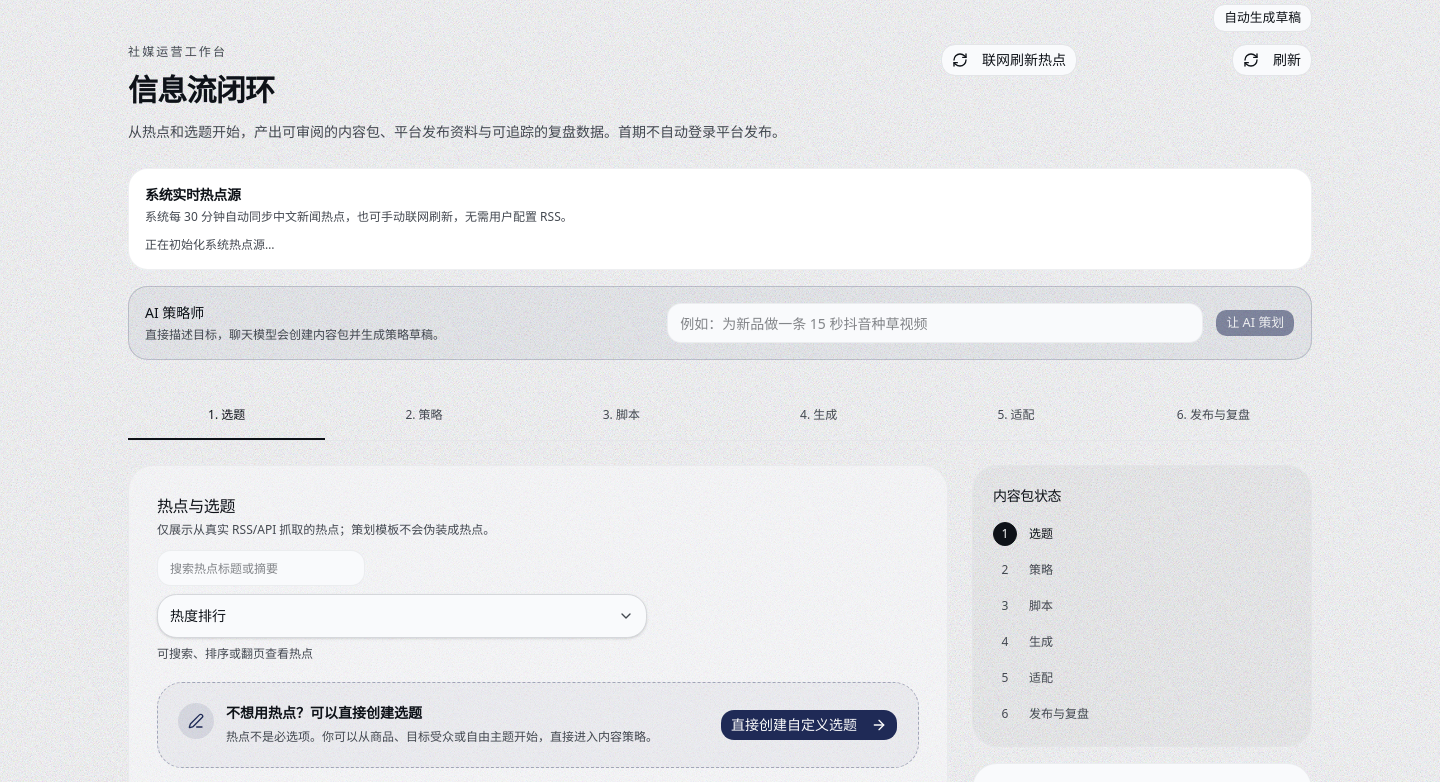
Test case: feed workflow closure › keeps custom topics independent from hotspot ids
The width and height of the screenshot is (1440, 782).
Click the button with test id "feed-custom-topic" at (809, 725), box left=720, top=709, right=898, bottom=741
(page scrolled)
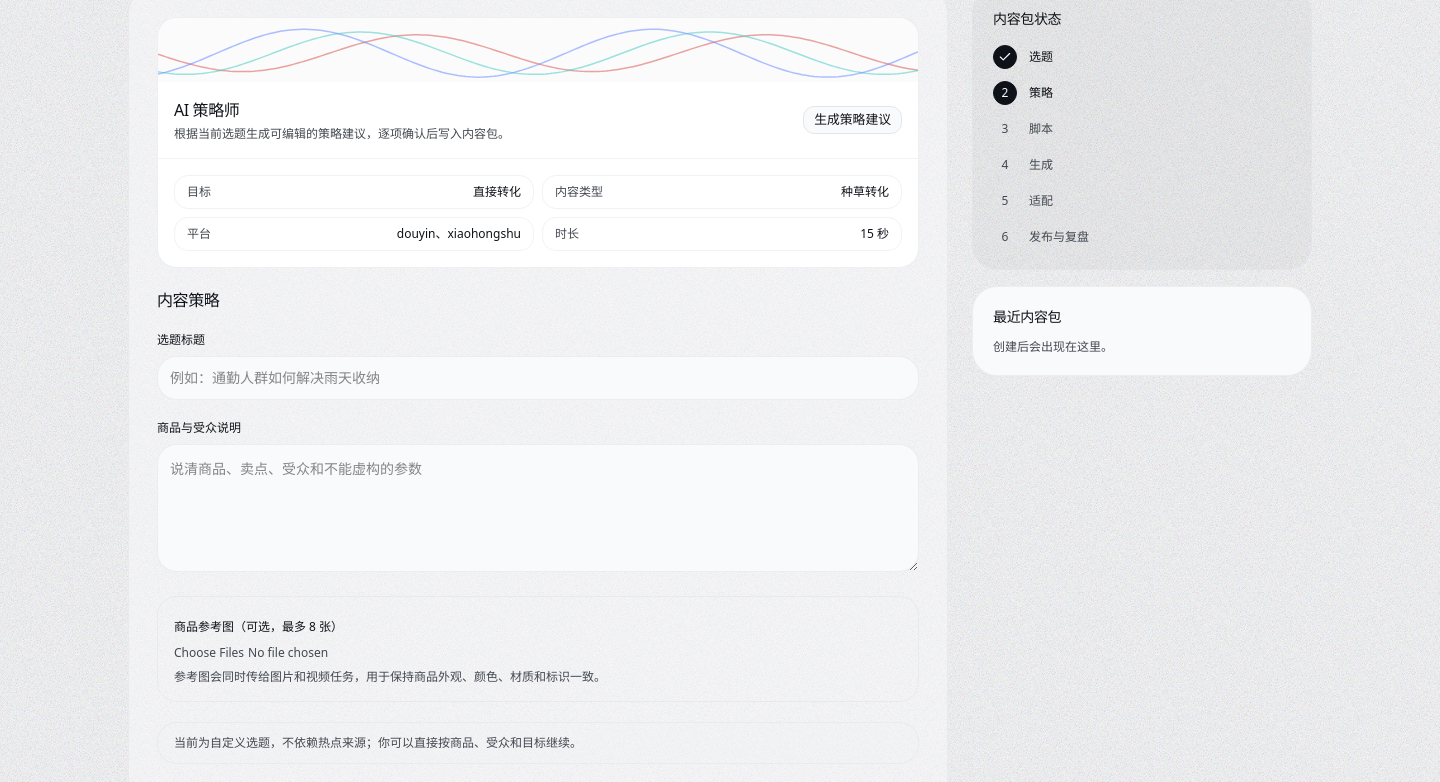
Type "自定义商品选题" into the field with placeholder "例如：通勤人群如何解决雨天收纳" at (538, 378), box left=157, top=356, right=919, bottom=400
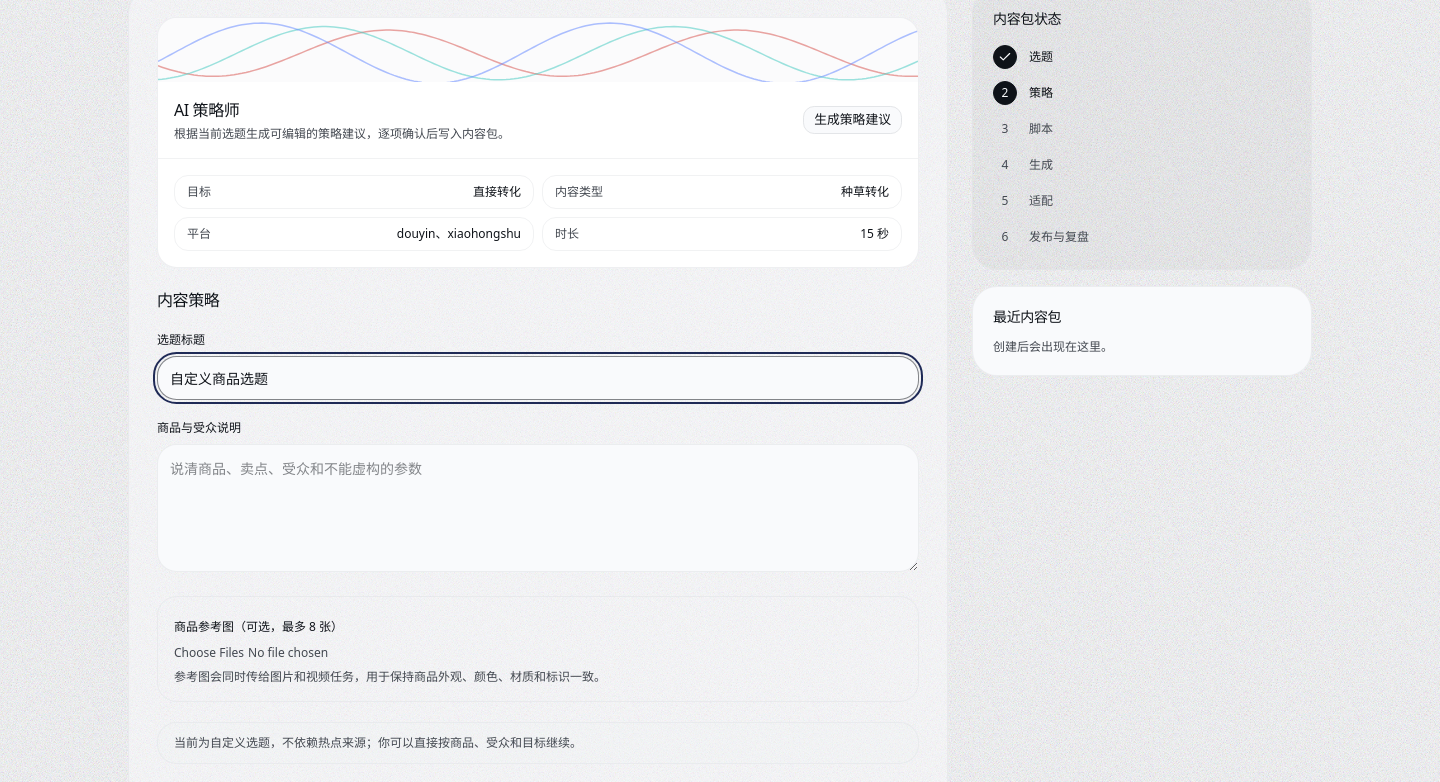
Type "商品和受众说明" into the text box with placeholder "说清商品、卖点、受众和不能虚构的参数" at (538, 508), box left=157, top=444, right=919, bottom=572
(page scrolled)
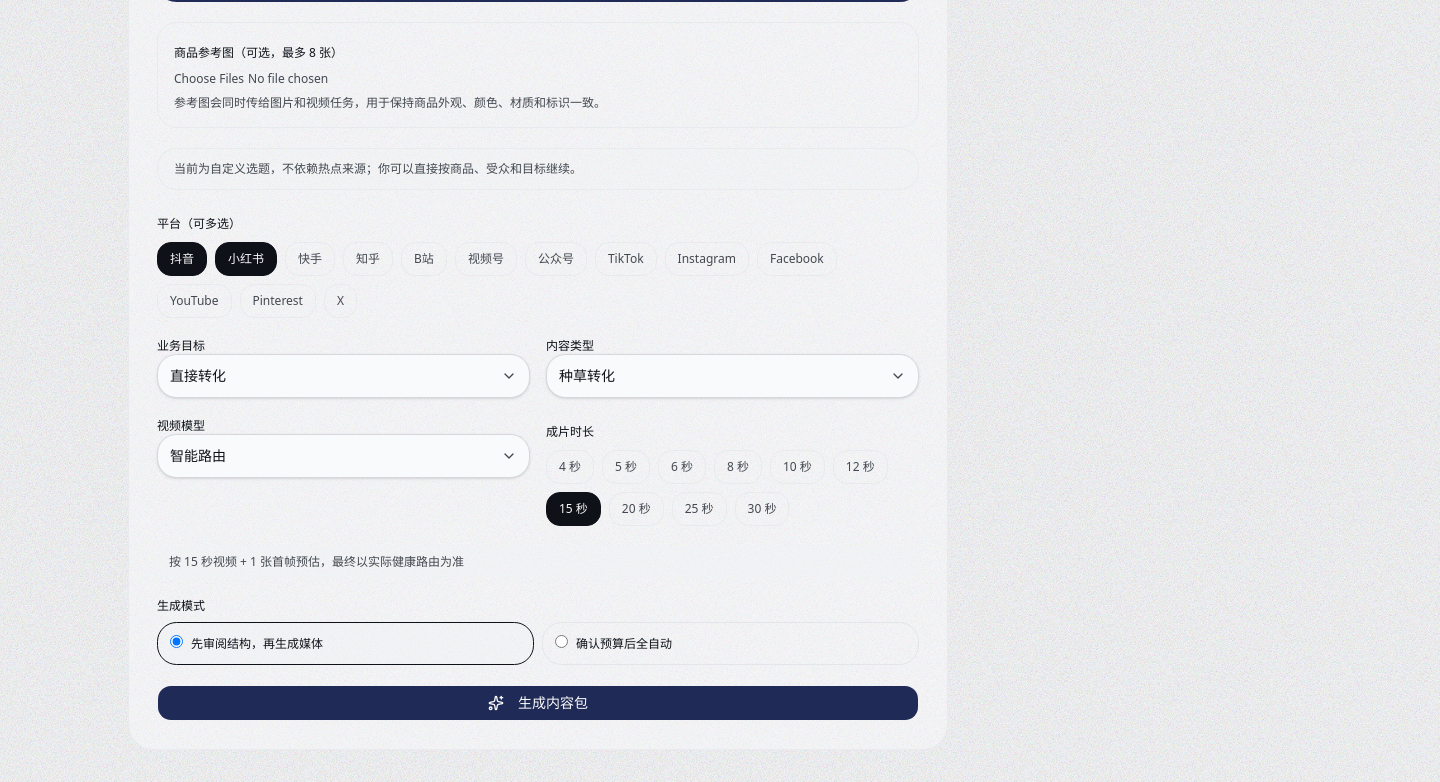
Click the button "生成内容包" at (538, 702), box left=157, top=684, right=919, bottom=720
(page scrolled)
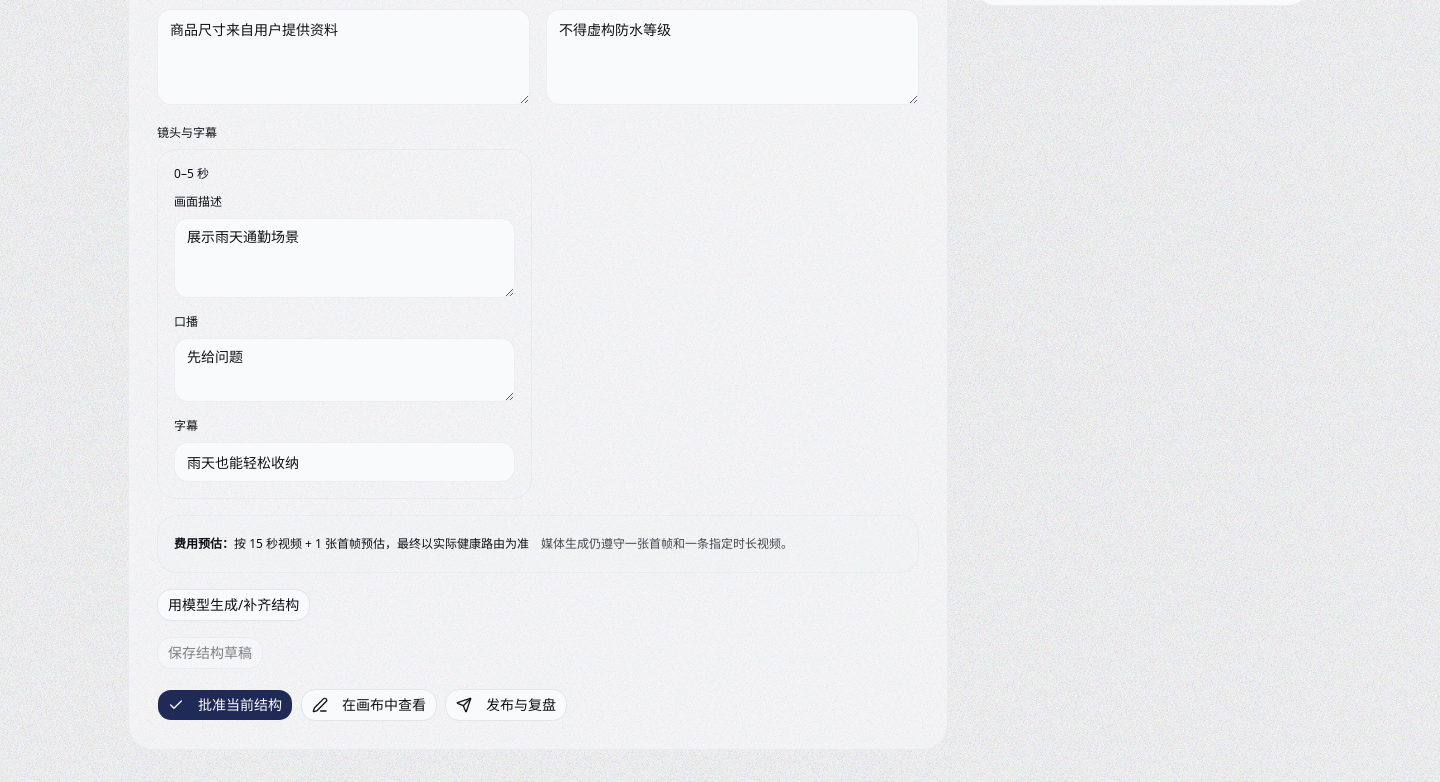
Expected: the button with test id "feed-approve-structure" is shown, left=157, top=688, right=293, bottom=720
